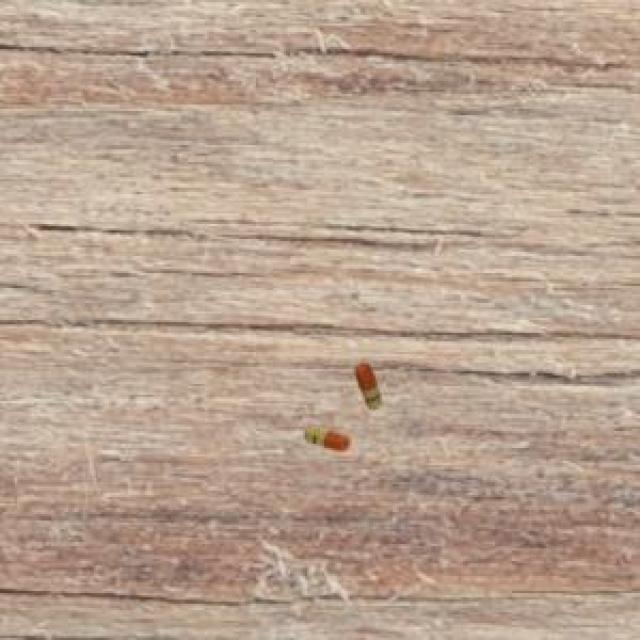Alaxan: (348, 356, 392, 415), (301, 420, 356, 461)
